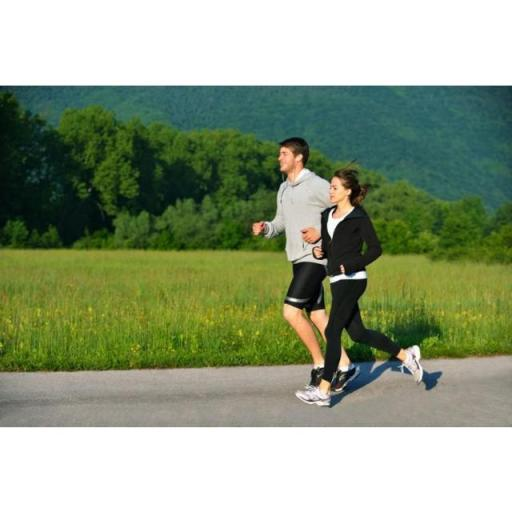Running: (293, 170, 439, 410)
